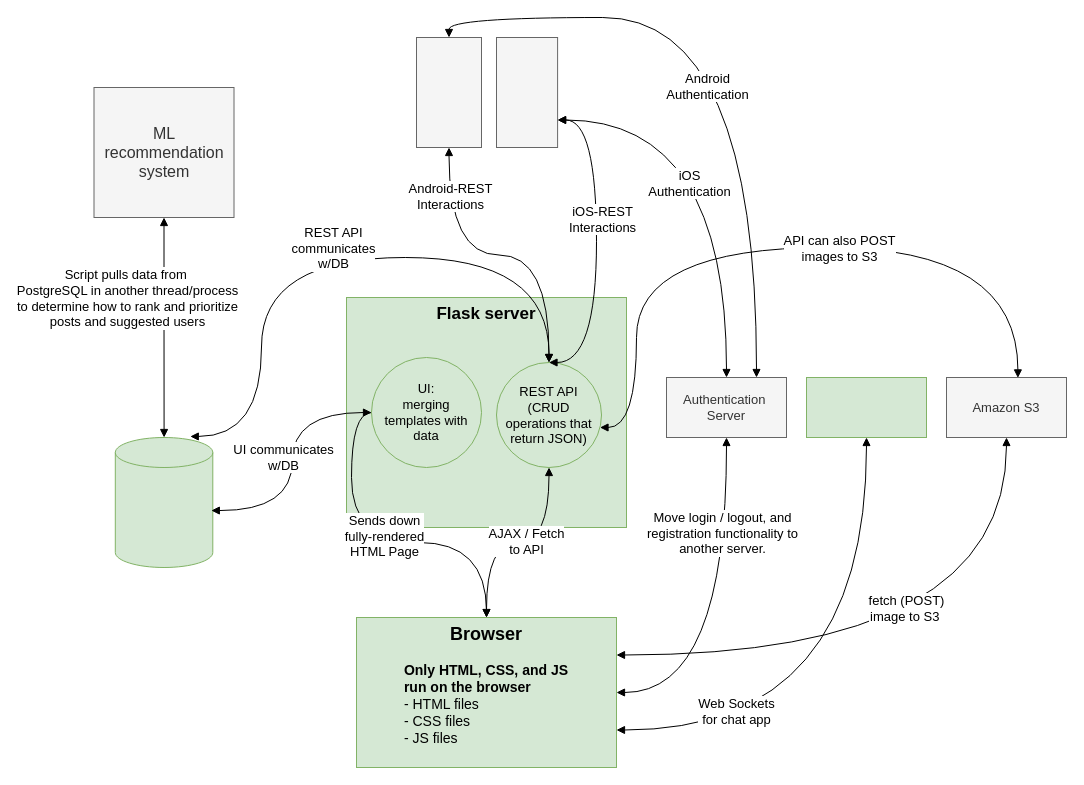
The diagram is 1084 pixels wide and 785 high, and some of its shapes have lost their labels. Each missing label, with the box of its shape:
Android: (416, 36, 482, 148)
Chat Server: (806, 376, 926, 438)
iOS: (496, 36, 558, 148)
postgres database: (114, 436, 213, 568)
